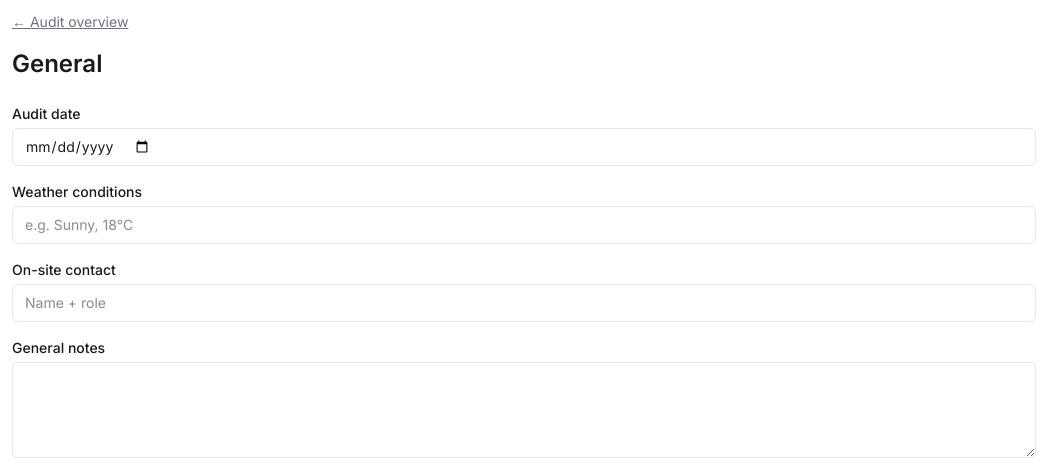
it: SectionEditPage — general section › shows ✓ Saved after a successful PATCH (AC2)
Type "Cloudy" into the field with test id "general-weather" at (524, 225), box [12, 206, 1036, 244]
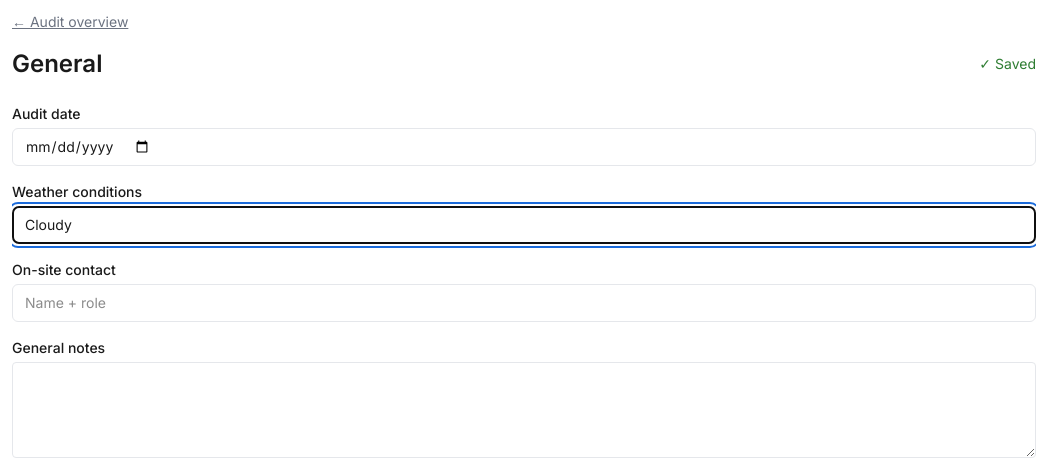
expect the text "✓ Saved" is shown: met, box [979, 55, 1036, 72]
